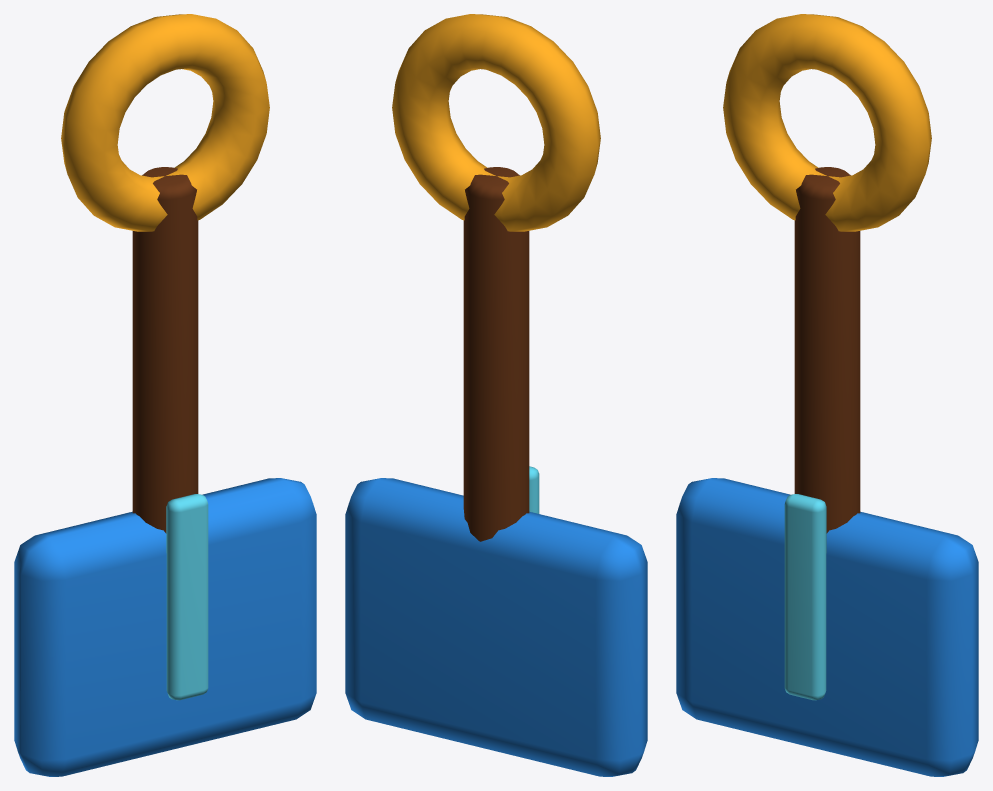
Rendered from shovel.glb.
3 views of the same model, side by side, from view 1: azimuth 30°, elevation 25°; view 2: azimuth 150°, elevation 25°; view 3: azimuth 330°, elevation 25° (orthographic).
Visible parts, largest first — view 1: shovel; view 2: shovel; view 3: shovel.
Boxes of the visible parts, x1,y1,x2,y2 form: shovel: [14, 14, 316, 776]; shovel: [345, 14, 647, 776]; shovel: [676, 14, 978, 776].
Size of the model in its own units: 0.4182 by 1 by 0.1136.
1 material, 1 textured.
